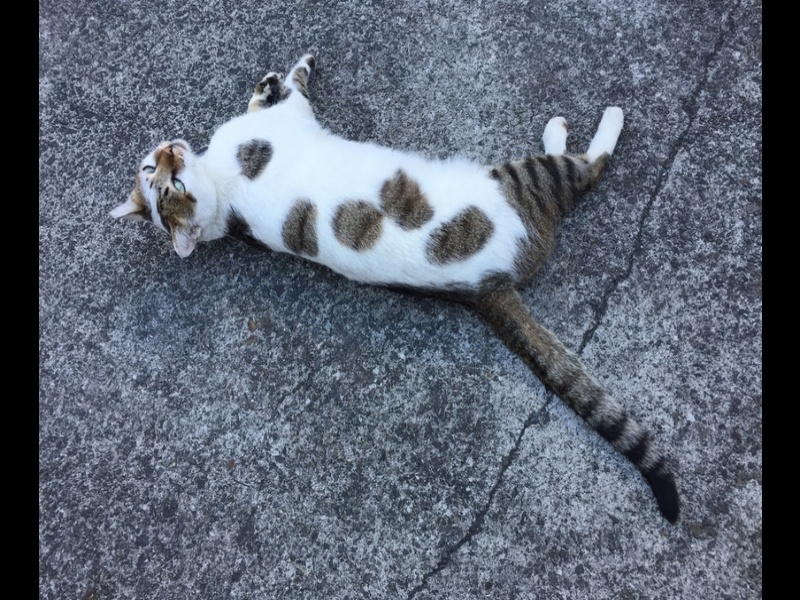cat: (106, 47, 686, 526)
